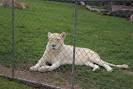lion: (30, 33, 127, 77)
